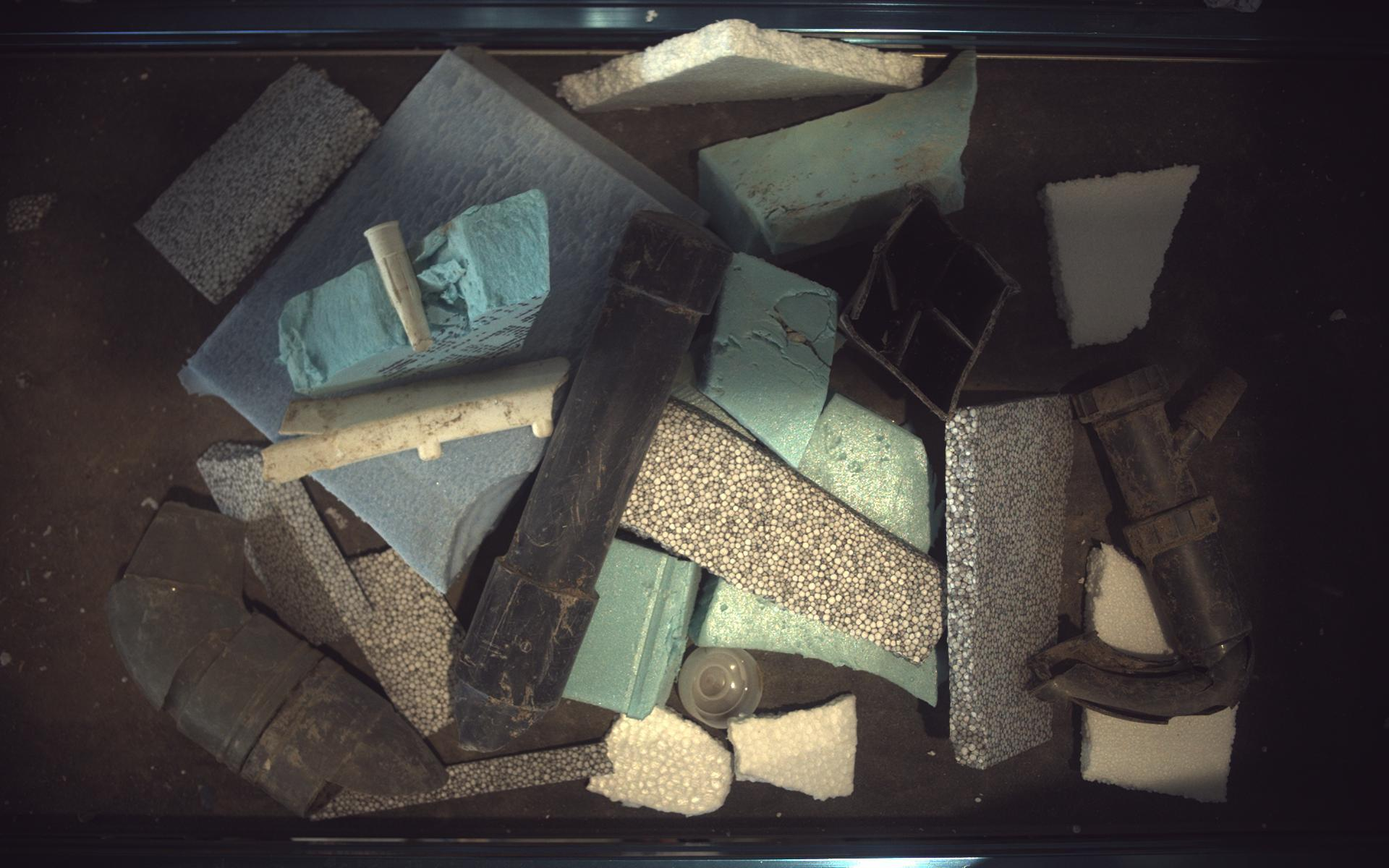foam: (182, 51, 709, 443), (620, 400, 944, 663), (197, 443, 458, 738), (134, 62, 378, 303), (701, 48, 980, 258), (279, 188, 551, 394), (947, 396, 1076, 770), (314, 427, 547, 594), (319, 431, 545, 593), (320, 432, 545, 593), (558, 17, 926, 111), (691, 576, 939, 705), (701, 252, 838, 468), (1041, 164, 1201, 347), (564, 539, 701, 720), (309, 743, 613, 822), (799, 393, 934, 553), (349, 550, 462, 738), (588, 708, 734, 817), (1085, 707, 1239, 804), (729, 697, 859, 802), (1087, 544, 1175, 655), (672, 352, 756, 442)
pipes: (454, 210, 732, 752), (106, 503, 446, 817), (1032, 365, 1254, 723)
plastic: (841, 190, 1021, 422), (262, 357, 569, 482), (365, 221, 432, 352), (679, 648, 764, 730)
